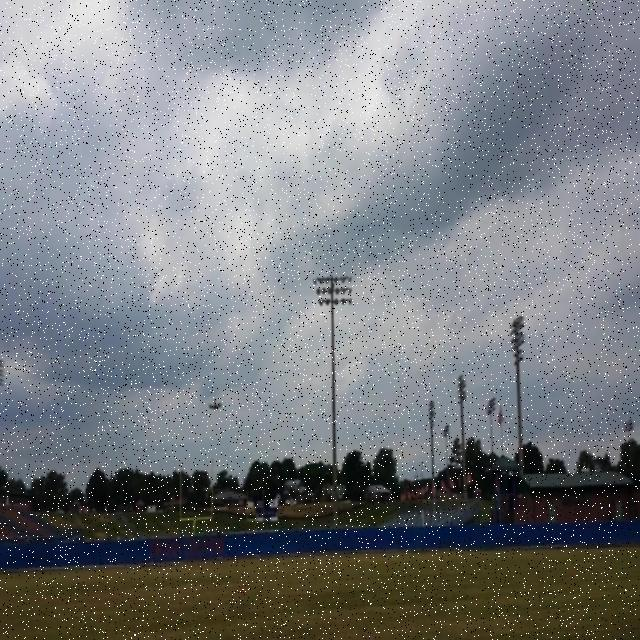UAV: (208, 399, 222, 411)
